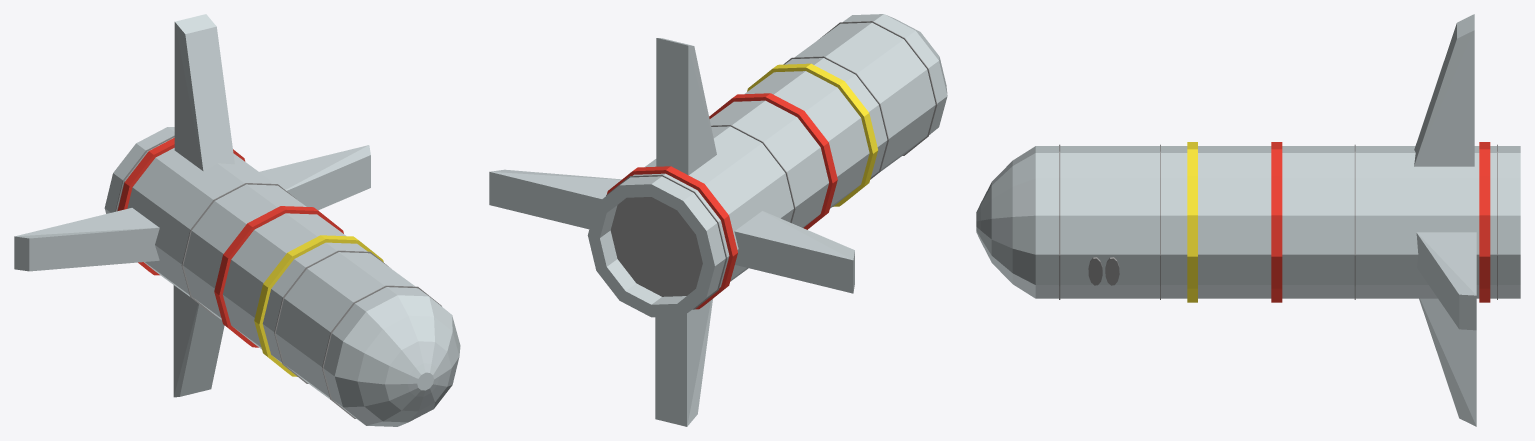
File: Missile.glb
The picture shows the model from 3 angles, left to right: view 1: azimuth 30°, elevation 25°; view 2: azimuth 150°, elevation 25°; view 3: azimuth 270°, elevation 25°; orthographic projection. The views are drawn at different scales.
Parts seen in each view (by area): view 1: Node; view 2: Node; view 3: Node.
Part boxes in pixels (box(x1,y1,x2,y2)): Node: box(14, 14, 460, 426); Node: box(489, 14, 947, 426); Node: box(976, 14, 1520, 426).
Size of the model in its own units: 1.59 by 1.6 by 1.99.
